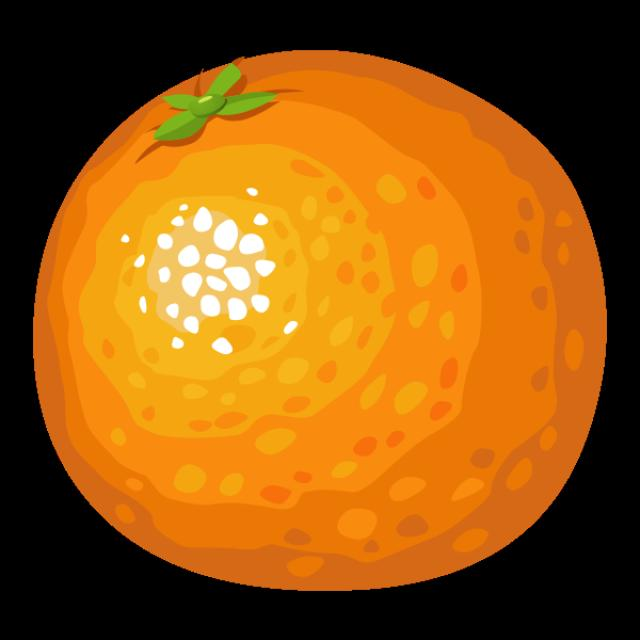orange: (35, 51, 630, 592)
